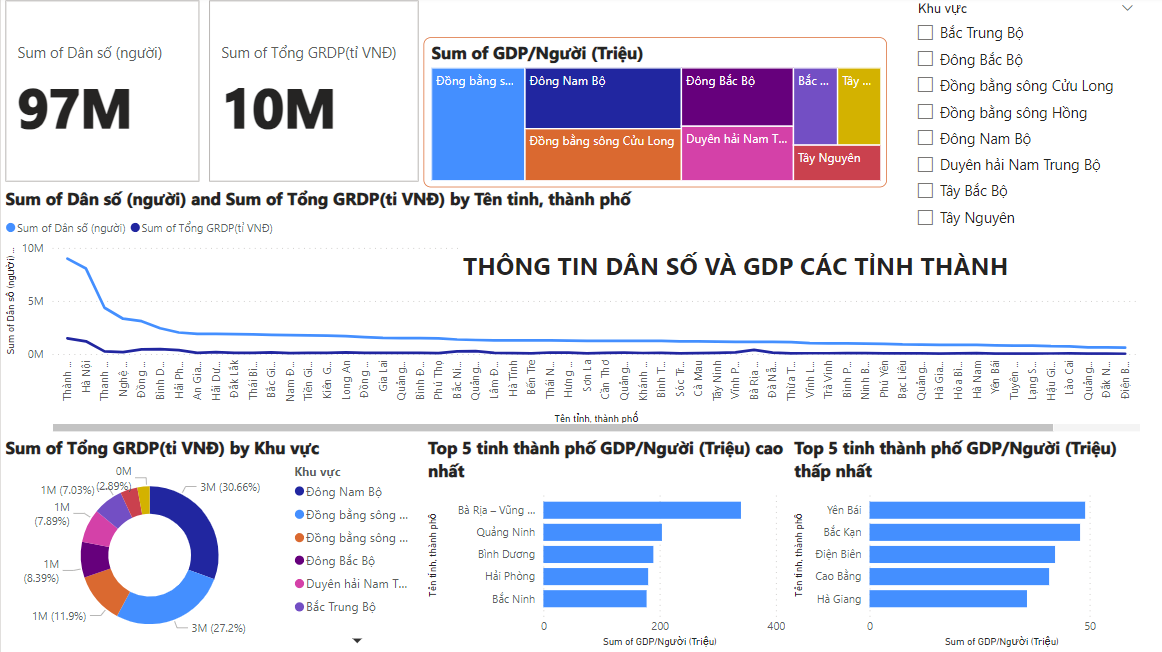

The dashboard page shown, as its layout file describes it:
{"tool":"powerbi","page":{"name":"Page 1","canvas":[1280,720],"ordinal":0},"visuals":[{"type":"cardVisual","fields":{"Data":["Sum(Danh sách tỉnh thành[sửa | sửa mã nguồn].Dân số (người))"]},"box":[0,0,223.7,209.9],"z":0},{"type":"cardVisual","fields":{"Data":["Sum(Danh sách các đơn vị hành chính Việt Nam theo Tổng sản phẩm trên địa bàn (GRDP).Tổng GRDP(tỉ VNĐ))"]},"box":[223.7,0,240.1,209.9],"z":1000},{"type":"lineChart","fields":{"Y":["Sum(Danh sách tỉnh thành[sửa | sửa mã nguồn].Dân số (người))","Sum(Danh sách tỉnh thành[sửa | sửa mã nguồn].Tổng GRDP(tỉ VNĐ))"],"Category":["Danh sách tỉnh thành[sửa | sửa mã nguồn].Tên tỉnh, thành phố"]},"box":[0,209.9,1255.6,273.1],"z":2000},{"type":"donutChart","fields":{"Category":["Danh sách tỉnh thành[sửa | sửa mã nguồn].Khu vực"],"Y":["Sum(Danh sách tỉnh thành[sửa | sửa mã nguồn].Tổng GRDP(tỉ VNĐ))"]},"box":[0,483,463.8,237.4],"z":3000},{"type":"barChart","title":"Top 5 tỉnh thành phố GDP/Người (Triệu) cao nhất","fields":{"Category":["Danh sách tỉnh thành[sửa | sửa mã nguồn].Tên tỉnh, thành phố"],"Y":["Sum(Danh sách tỉnh thành[sửa | sửa mã nguồn].GDP/Người (Triệu))"]},"box":[463.8,483,402.1,237.4],"z":4000},{"type":"barChart","title":"Top 5 tỉnh thành phố GDP/Người (Triệu) thấp nhất","fields":{"Category":["Danh sách tỉnh thành[sửa | sửa mã nguồn].Tên tỉnh, thành phố"],"Y":["Sum(Danh sách tỉnh thành[sửa | sửa mã nguồn].GDP/Người (Triệu))"]},"box":[865.9,483,389.7,237.4],"z":5000},{"type":"slicer","fields":{"Values":["Danh sách tỉnh thành[sửa | sửa mã nguồn].Khu vực"]},"box":[993.5,0,262.1,297.8],"z":6000},{"type":"treemap","title":"Sum of GDP/Người (Triệu) ","fields":{"Group":["Danh sách tỉnh thành[sửa | sửa mã nguồn].Khu vực"],"Values":["Sum(Danh sách tỉnh thành[sửa | sửa mã nguồn].GDP/Người (Triệu))"]},"box":[463.8,45.3,509.1,164.7],"z":7000},{"type":"textbox","box":[502.2,273.1,727.3,49.4],"z":8000}]}

Visuals, with their boxes in screenshot pixels (x1, y1, x2, y2), scaled from the page's 1280x720 canvas onto the 1162x652 screenshot:
cardVisual - Sum(Danh sách tỉnh thành[sửa | sửa mã nguồn].Dân số (người)): 0, 0, 203, 190
cardVisual - Sum(Danh sách các đơn vị hành chính Việt Nam theo Tổng sản phẩm trên địa bàn (GRDP).Tổng GRDP(tỉ VNĐ)): 203, 0, 421, 190
lineChart - Sum(Danh sách tỉnh thành[sửa | sửa mã nguồn].Dân số (người)) x Sum(Danh sách tỉnh thành[sửa | sửa mã nguồn].Tổng GRDP(tỉ VNĐ)): 0, 190, 1140, 437
donutChart - Danh sách tỉnh thành[sửa | sửa mã nguồn].Khu vực x Sum(Danh sách tỉnh thành[sửa | sửa mã nguồn].Tổng GRDP(tỉ VNĐ)): 0, 437, 421, 651
"Top 5 tỉnh thành phố GDP/Người (Triệu) cao nhất" barChart: 421, 437, 786, 651
"Top 5 tỉnh thành phố GDP/Người (Triệu) thấp nhất" barChart: 786, 437, 1140, 651
slicer - Danh sách tỉnh thành[sửa | sửa mã nguồn].Khu vực: 902, 0, 1140, 270
"Sum of GDP/Người (Triệu) " treemap: 421, 41, 883, 190
textbox: 456, 247, 1116, 292
